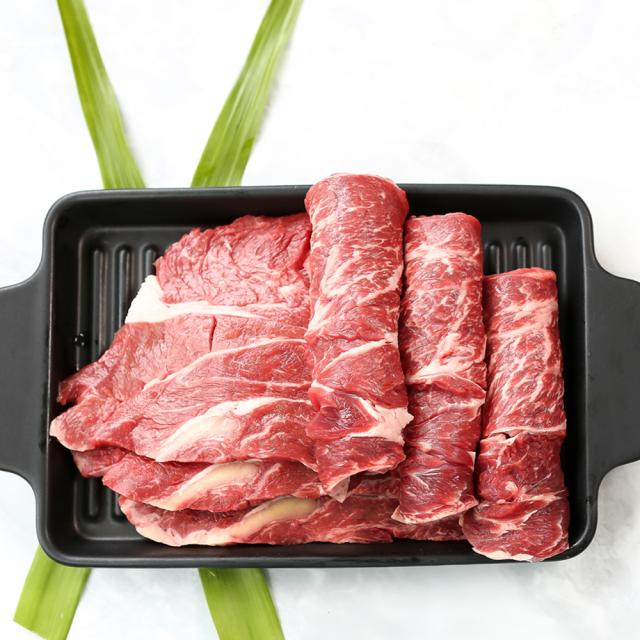beef: (173, 272, 424, 439)
